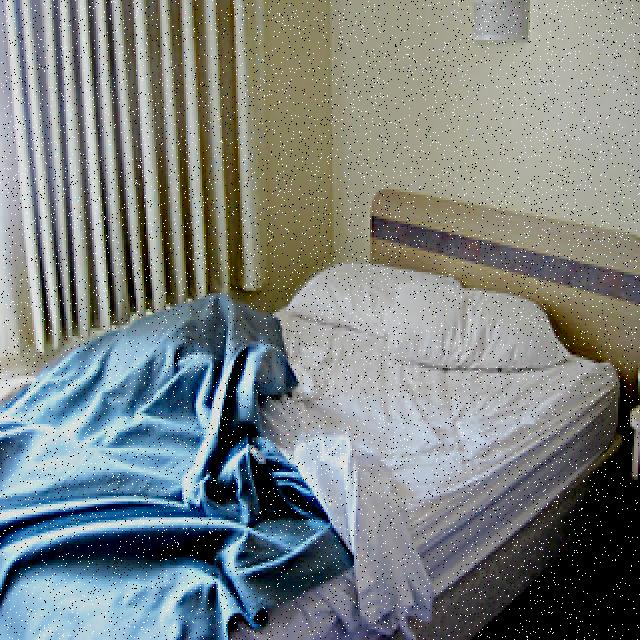bed: (0, 270, 630, 638)
